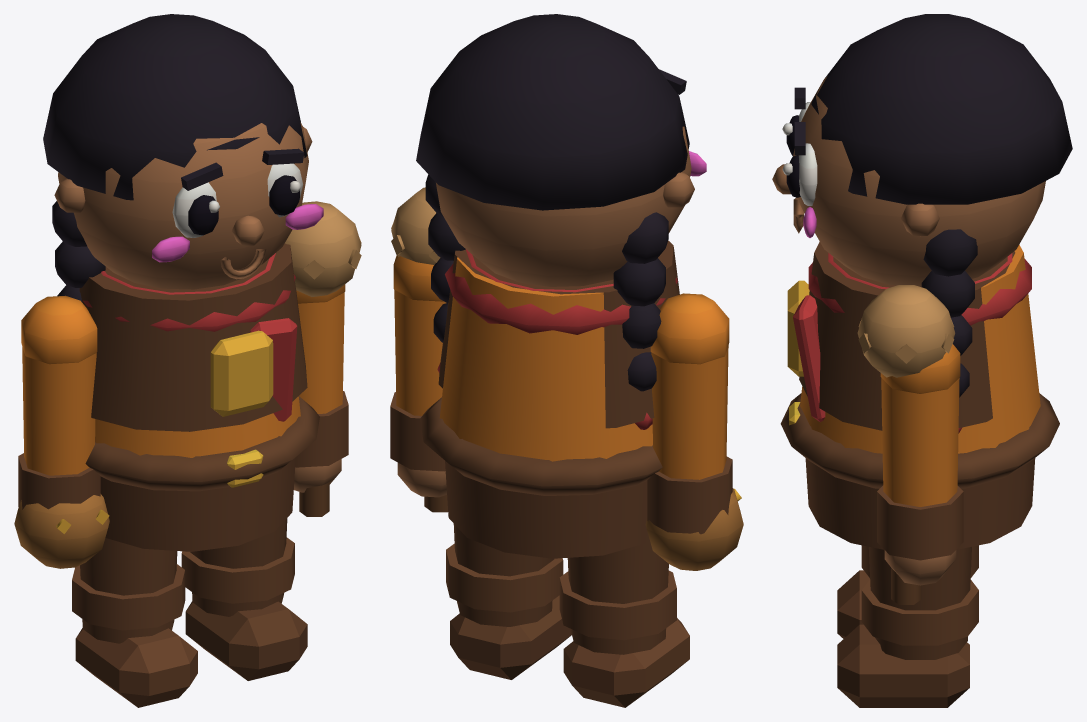
File: hero_cadence.glb
The picture shows the model from 3 angles, left to right: view 1: azimuth 30°, elevation 25°; view 2: azimuth 150°, elevation 25°; view 3: azimuth 270°, elevation 25°; orthographic projection. The views are drawn at different scales.
Visible parts, largest first — view 1: body_t0_palette, arml_t0_palette, legl_t0_palette, legr_t0_palette, armr_t0_palette; view 2: body_t0_palette, arml_t0_palette, legl_t0_palette, legr_t0_palette, armr_t0_palette; view 3: body_t0_palette, armr_t0_palette, legr_t0_palette, legl_t0_palette.
Part boxes in pixels (x1,y1,x2,y2): body_t0_palette: (43,14,323,551); arml_t0_palette: (14,295,109,568); legl_t0_palette: (72,538,197,707); legr_t0_palette: (181,518,307,680); armr_t0_palette: (285,201,361,516); body_t0_palette: (416,14,706,558); arml_t0_palette: (645,293,743,570); legl_t0_palette: (559,530,689,707); legr_t0_palette: (446,524,571,679); armr_t0_palette: (390,187,448,512); body_t0_palette: (772,14,1072,549); armr_t0_palette: (857,285,963,604); legr_t0_palette: (837,547,978,707); legl_t0_palette: (837,545,978,638).
Size of the model in its own units: 0.2772 by 0.509 by 0.215.
